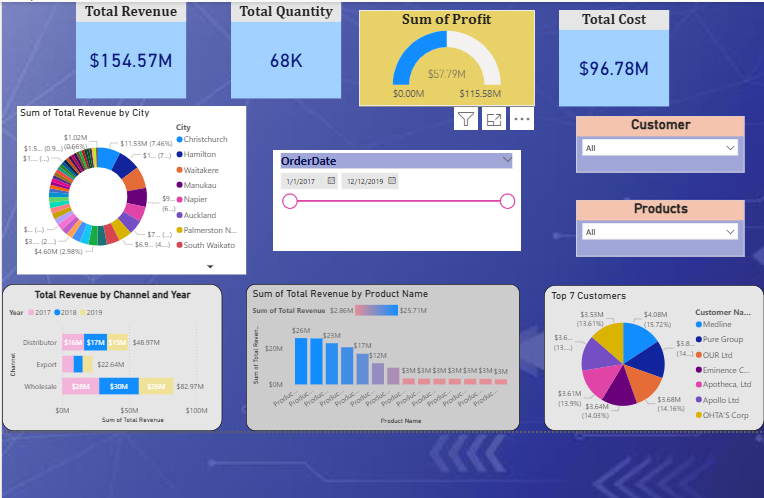

What the dashboard file says about the page in this screenshot:
{"tool":"powerbi","page":{"name":"Page 1","canvas":[1280,720],"ordinal":0},"visuals":[{"type":"barChart","title":" Total Revenue by Channel and Year","fields":{"Category":["Sales_Data.Channel"],"Y":["Sum(Sales_Data.Total Revenue)"],"Series":["Sales_Data.OrderDate.Variation.Date Hierarchy.Year"]},"box":[0,473.3,370,246.7],"z":0},{"type":"columnChart","fields":{"Category":["Products_Data.Product Name"],"Y":["Sum(Sales_Data.Total Revenue)"]},"box":[410,473.3,460,246.7],"z":1000},{"type":"pieChart","title":"Top 7 Customers","fields":{"Category":["Customer_Data.Customer Names"],"Y":["Sum(Sales_Data.Total Revenue)"]},"box":[910,475,370,245],"z":2000},{"type":"donutChart","fields":{"Category":["Regions_Table.City"],"Y":["Sum(Sales_Data.Total Revenue)"]},"box":[25,175,385,283.3],"z":3000},{"type":"card","title":"Total Revenue","fields":{"Values":["Sum(Sales_Data.Total Revenue)"]},"box":[125,0,185,161.7],"z":4000},{"type":"card","title":"Total Quantity","fields":{"Values":["Sum(Sales_Data.Order Quantity)"]},"box":[385,0,185,161.7],"z":5000},{"type":"gauge","fields":{"Y":["Sum(Sales_Data.Profit)"]},"box":[600,13.3,295,161.7],"z":6000},{"type":"card","title":"Total Cost","fields":{"Values":["Sum(Sales_Data.Cost)"]},"box":[935,13.3,185,161.7],"z":7000},{"type":"slicer","fields":{"Values":["Sales_Data.OrderDate"]},"box":[455,248.3,415,168.3],"z":8000},{"type":"slicer","title":"Customer","fields":{"Values":["Customer_Data.Customer Names"]},"box":[965,191.7,283.3,95],"z":9000},{"type":"slicer","title":"Products","fields":{"Values":["Products_Data.Product Name"]},"box":[965,333.3,283.3,95],"z":11000}]}

Visuals, with their boxes in screenshot pixels (x1, y1, x2, y2):
" Total Revenue by Channel and Year" barChart: {"x1": 4, "y1": 283, "x2": 222, "y2": 428}
columnChart - Products_Data.Product Name x Sum(Sales_Data.Total Revenue): {"x1": 245, "y1": 283, "x2": 516, "y2": 428}
"Top 7 Customers" pieChart: {"x1": 540, "y1": 284, "x2": 757, "y2": 428}
donutChart - Regions_Table.City x Sum(Sales_Data.Total Revenue): {"x1": 19, "y1": 107, "x2": 245, "y2": 274}
"Total Revenue" card: {"x1": 78, "y1": 4, "x2": 186, "y2": 99}
"Total Quantity" card: {"x1": 231, "y1": 4, "x2": 339, "y2": 99}
gauge - Sum(Sales_Data.Profit): {"x1": 357, "y1": 12, "x2": 531, "y2": 107}
"Total Cost" card: {"x1": 554, "y1": 12, "x2": 663, "y2": 107}
slicer - Sales_Data.OrderDate: {"x1": 272, "y1": 150, "x2": 516, "y2": 249}
"Customer" slicer: {"x1": 572, "y1": 117, "x2": 739, "y2": 173}
"Products" slicer: {"x1": 572, "y1": 200, "x2": 739, "y2": 256}
